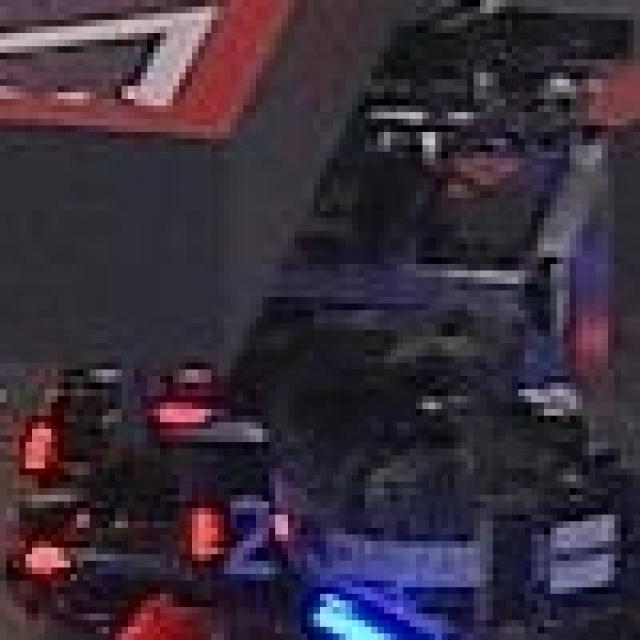R2: (186, 482, 300, 587)
